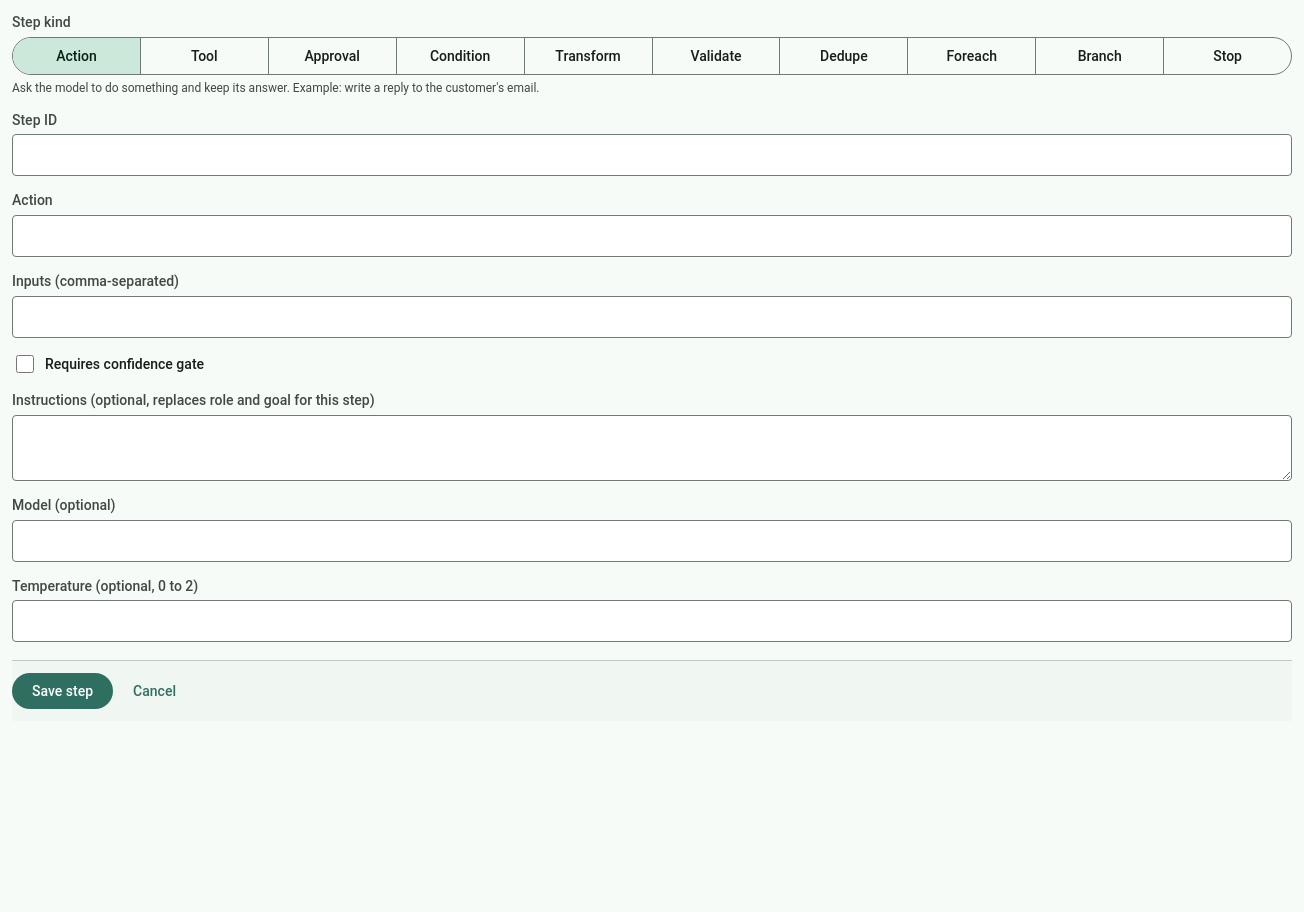
Test: WorkflowStepForm branch and stop › shows an error for an empty then
Click the button "Branch" at (1100, 56), box 1036,38 -> 1164,74
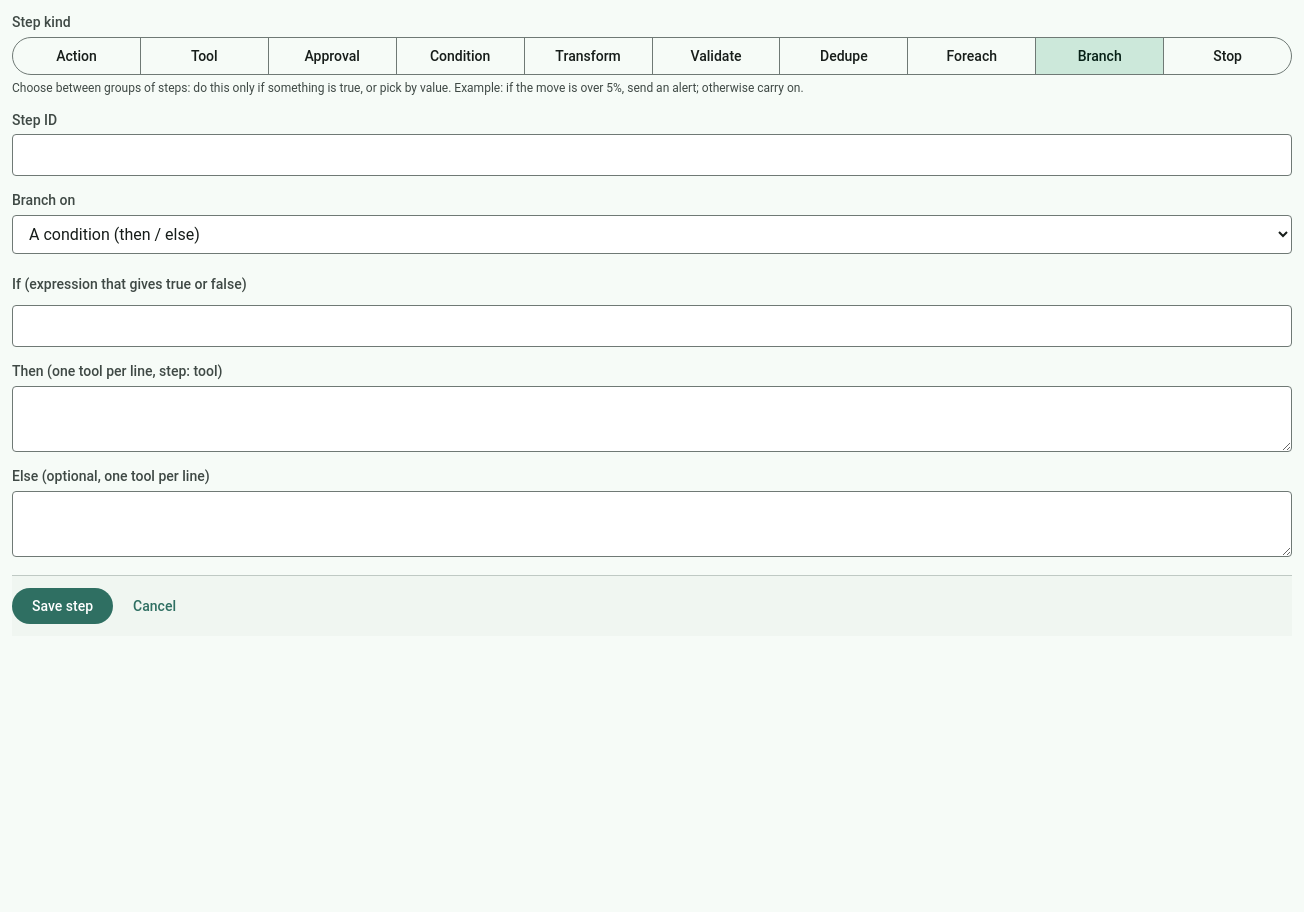
Type "route" into the field labelled "Step ID" at (652, 155), box 12,134 -> 1292,176
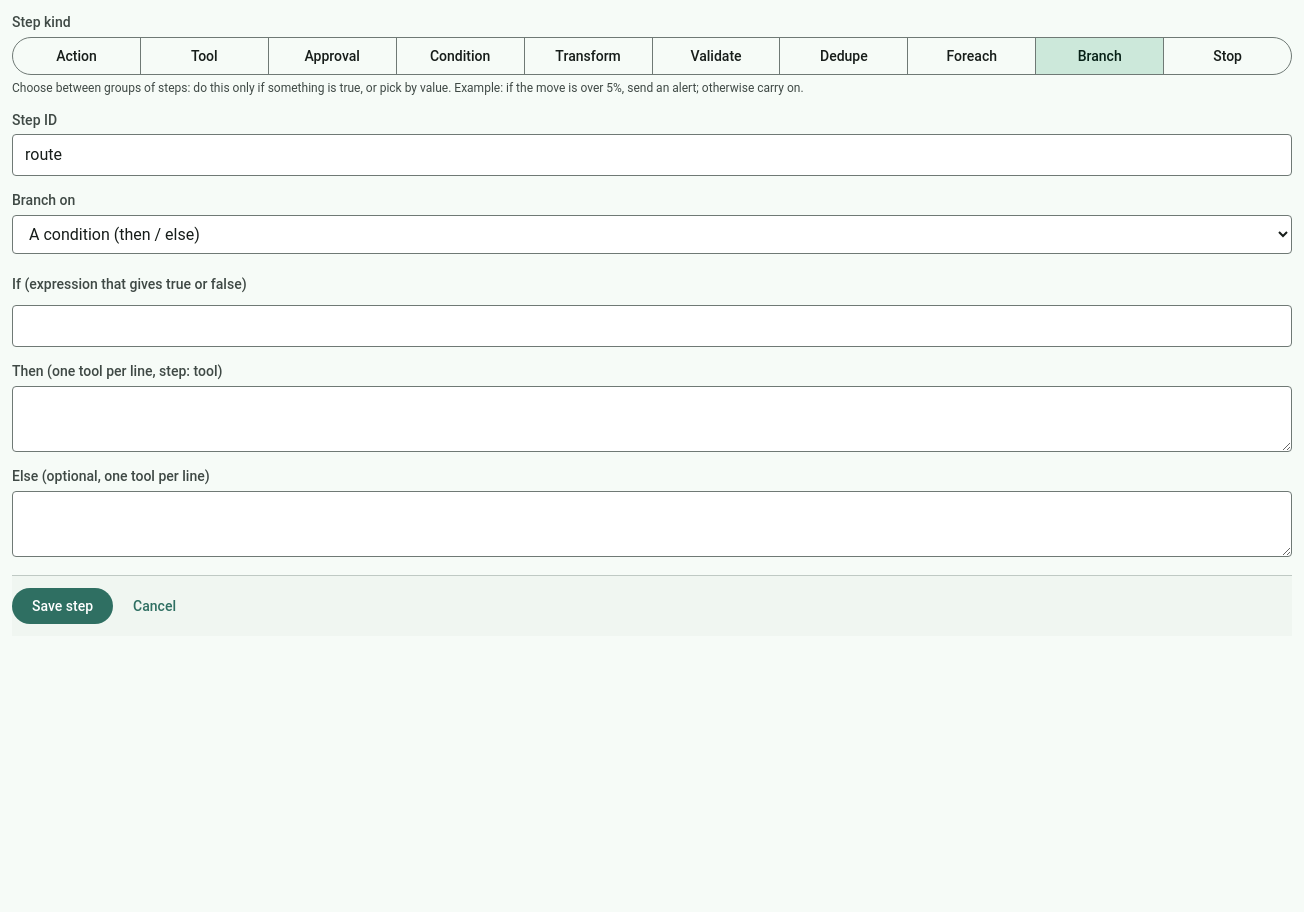
Type "x" into the field labelled "If (expression that gives true or false)" at (652, 326), box 12,305 -> 1292,347
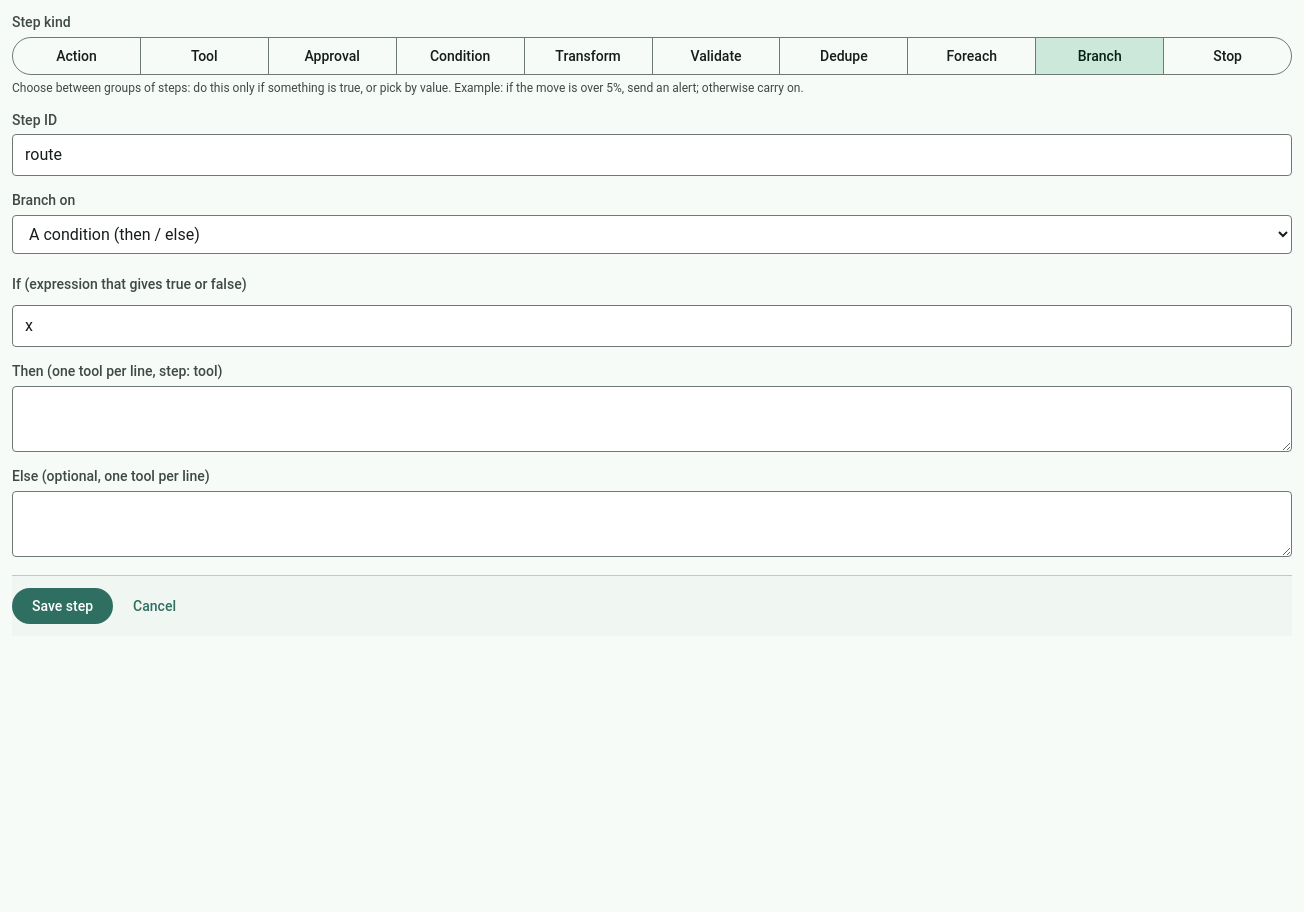
Click the button "Save step" at (63, 606), box 12,588 -> 113,624
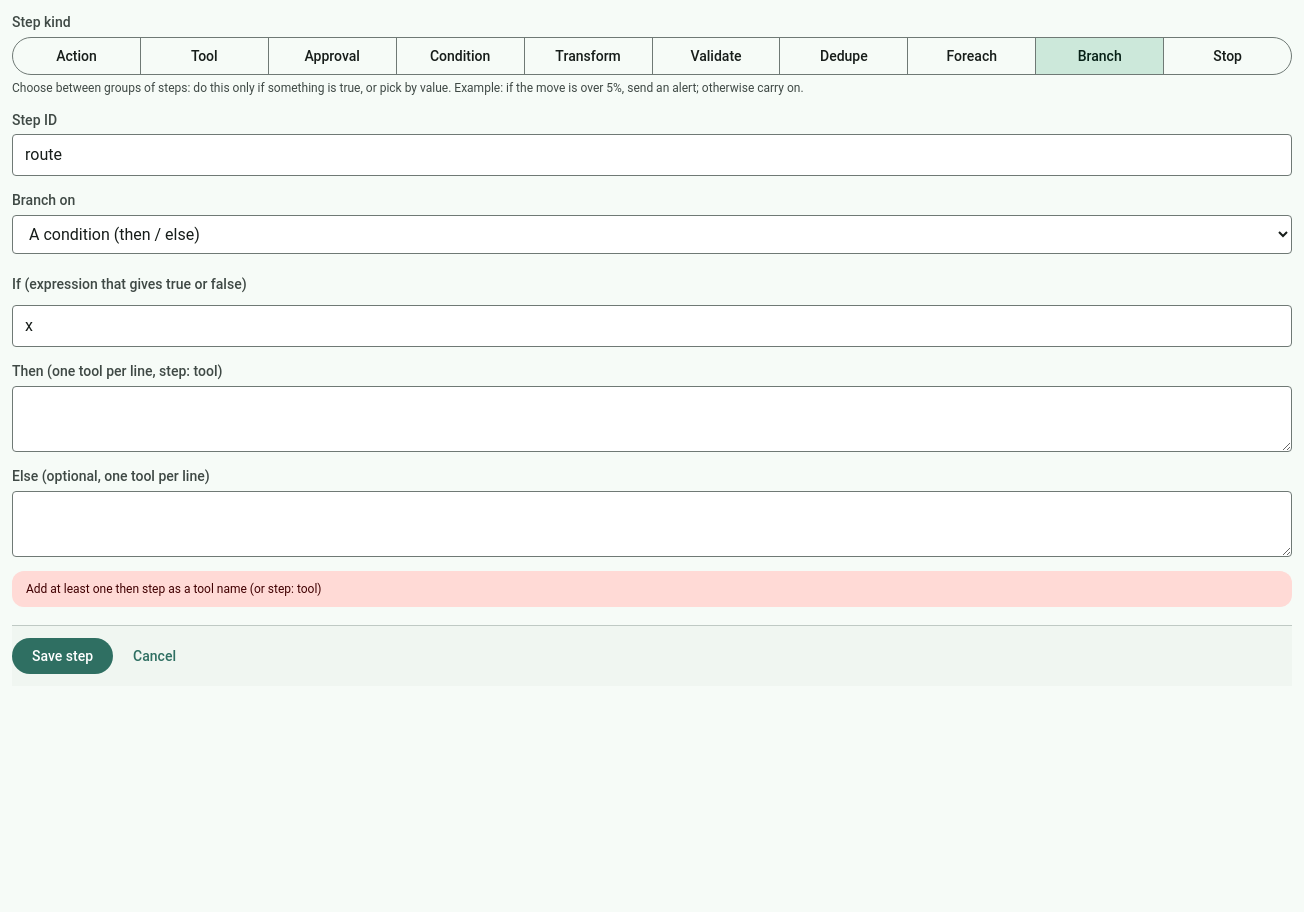
Expected: the list item "Add at least one then step as a tool name (or step: tool)" is shown, 26,582 -> 322,596
